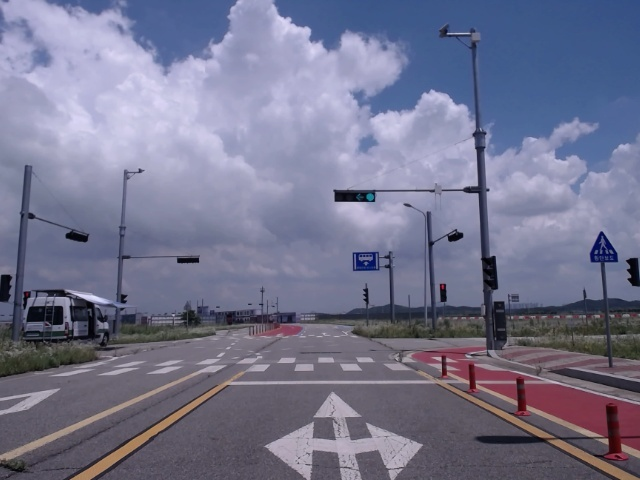all_green_4: (334, 192, 378, 203)
